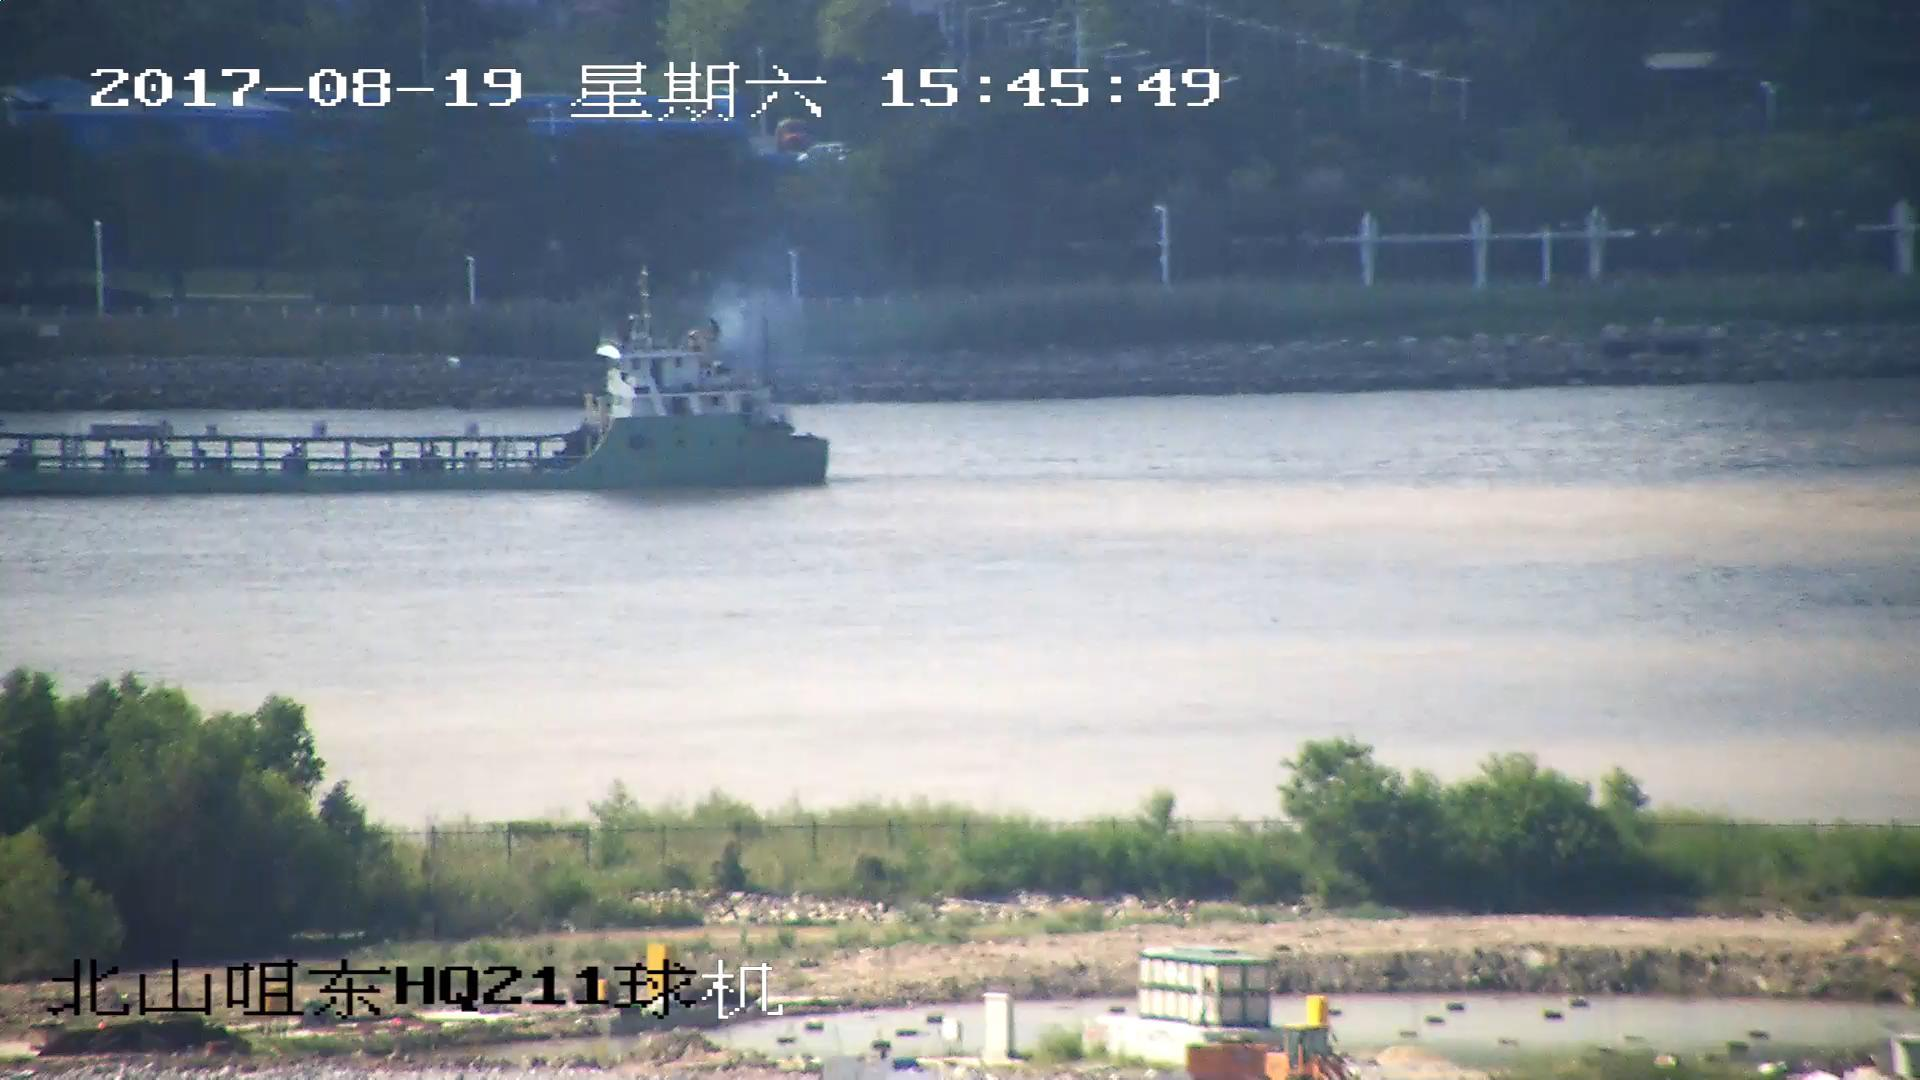Ship: (3, 293, 835, 489)
